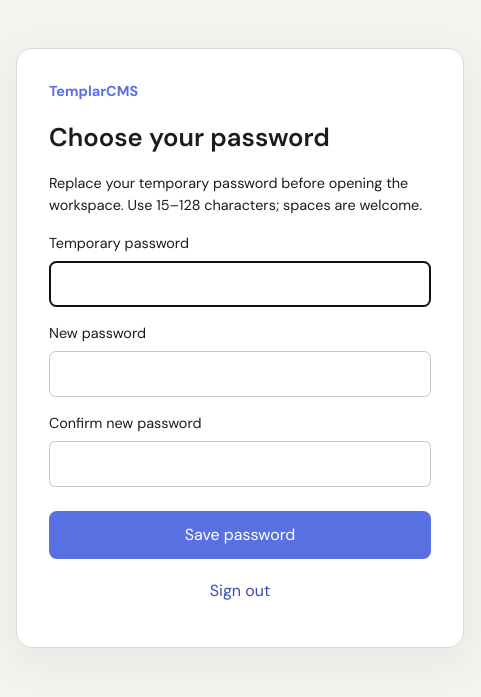
it: first password change › rejects mismatched confirmation before sending credentials
Step 1. Type "temporary-password" into the password field named "currentPassword" → (240, 284), box [49,261,431,307]
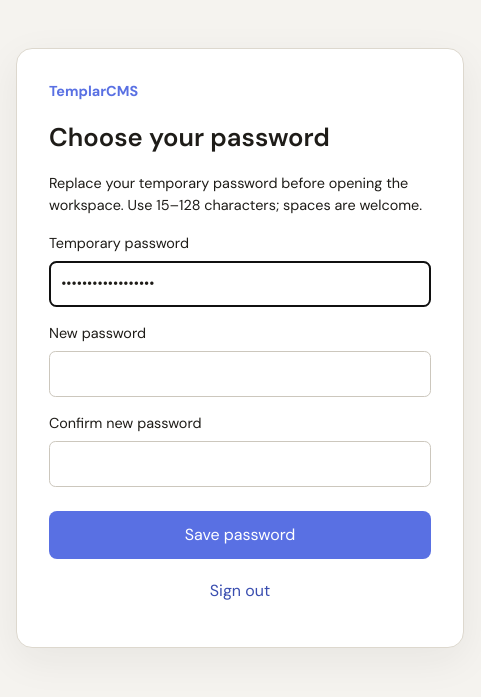
Step 2. Type "new private passphrase" into the password field named "newPassword" → (240, 374), box [49,351,431,397]
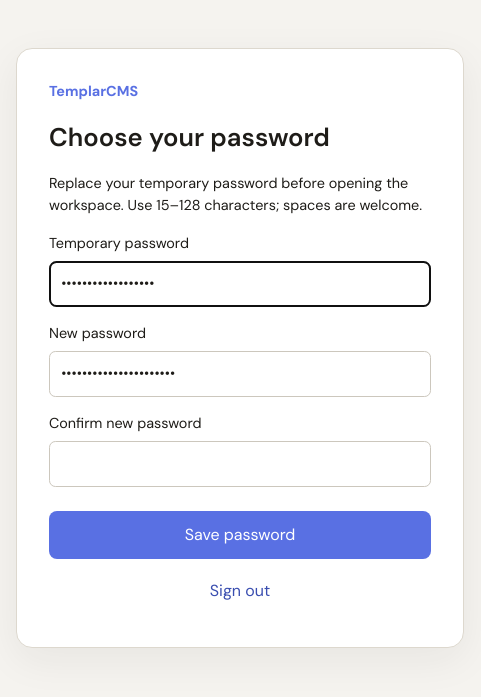
Step 3. Type "different private passphrase" into the password field named "confirmation" → (240, 464), box [49,441,431,487]
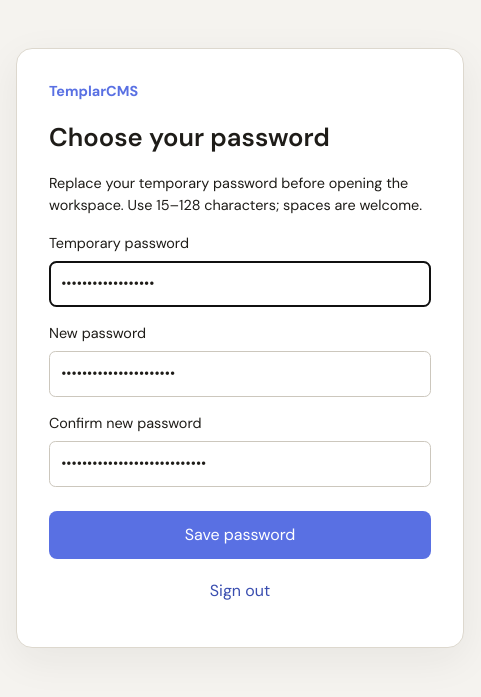
Step 4. Submit the form
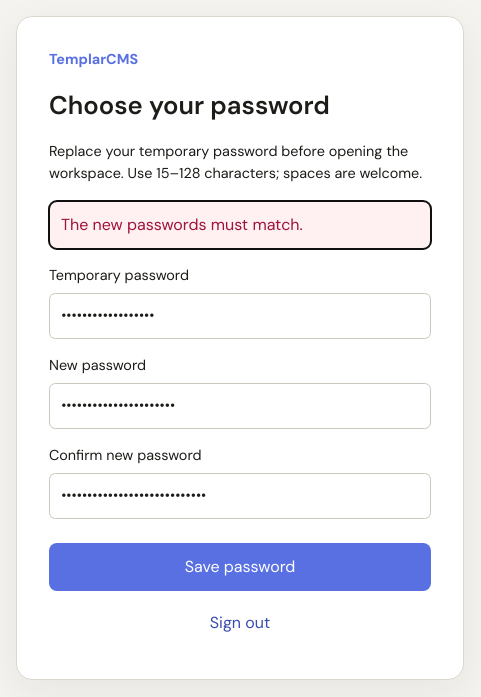
Now the message "The new passwords must match." is shown, box [49,201,431,249]
